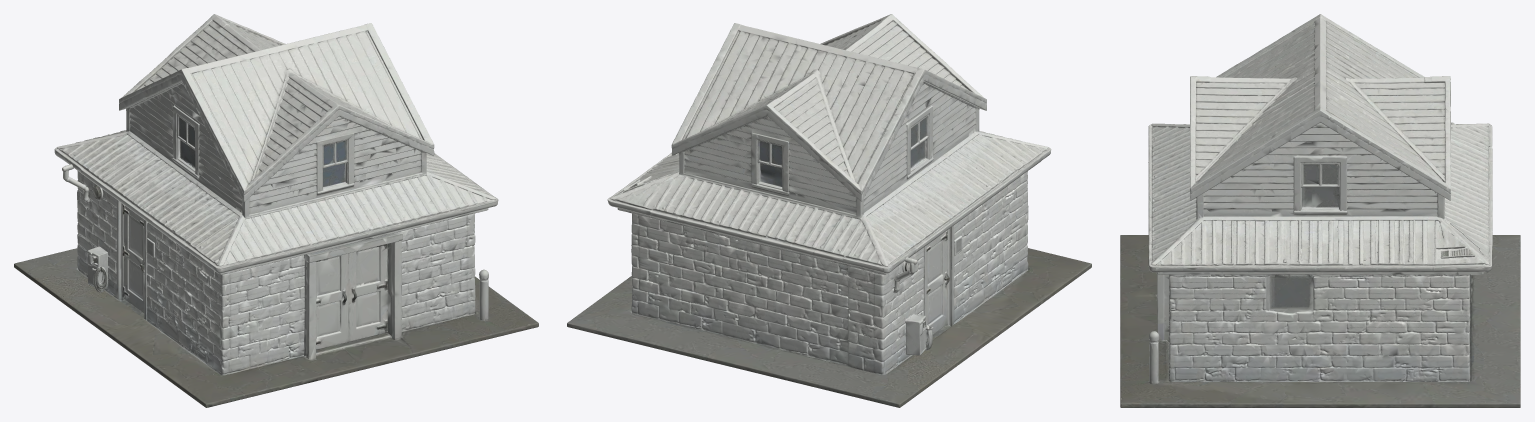
File: bermuda-boathouse.glb
3 views of the same model, side by side, from view 1: azimuth 30°, elevation 25°; view 2: azimuth 150°, elevation 25°; view 3: azimuth 270°, elevation 25° (orthographic). The views are drawn at different scales.
Bounding box in the file's own units: 1.9 × 1.37 × 1.9.
1 material, 1 textured.
